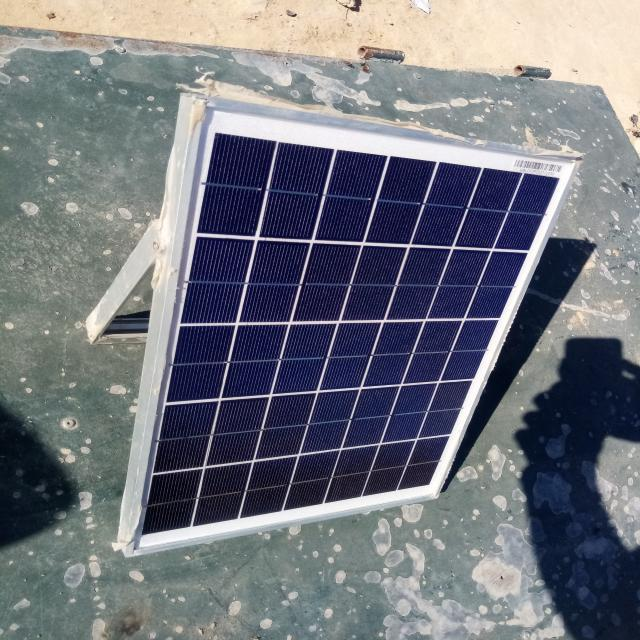no faulty: (131, 100, 583, 552)
